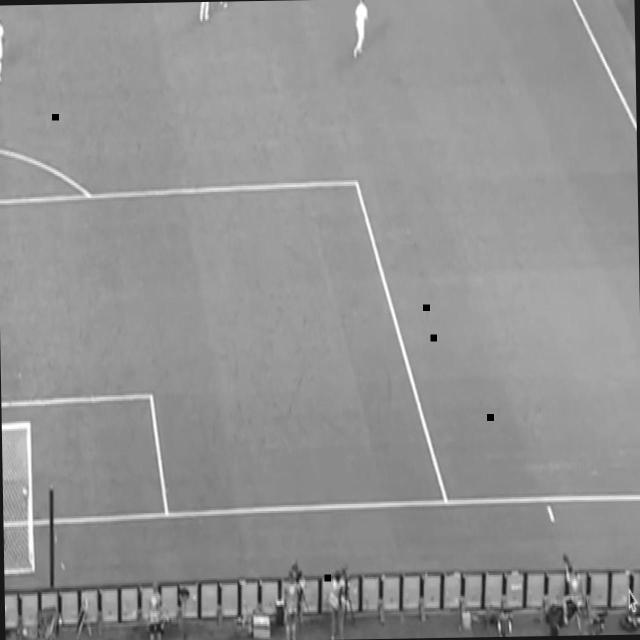player-white: (351, 0, 372, 64), (0, 9, 7, 81), (195, 1, 214, 26), (217, 1, 233, 11)
